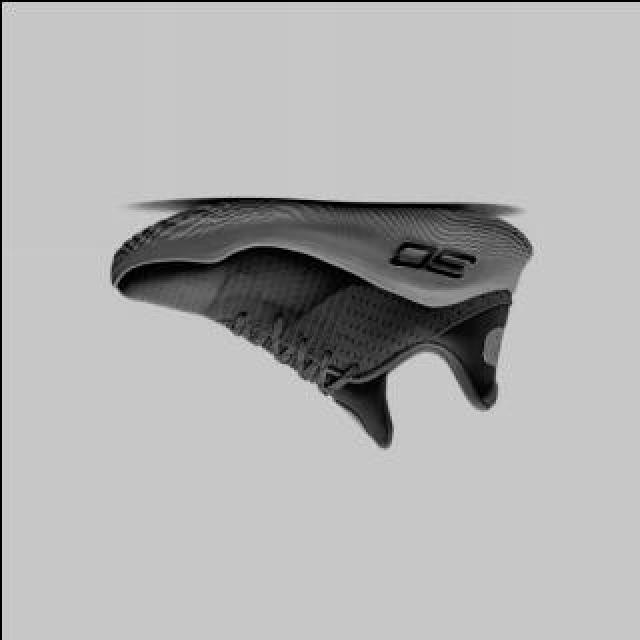shoe: (108, 196, 528, 444)
